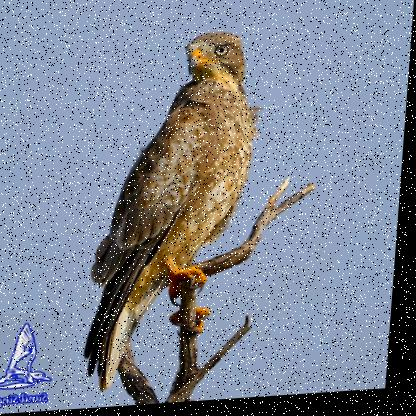Burung: (86, 28, 271, 394)
